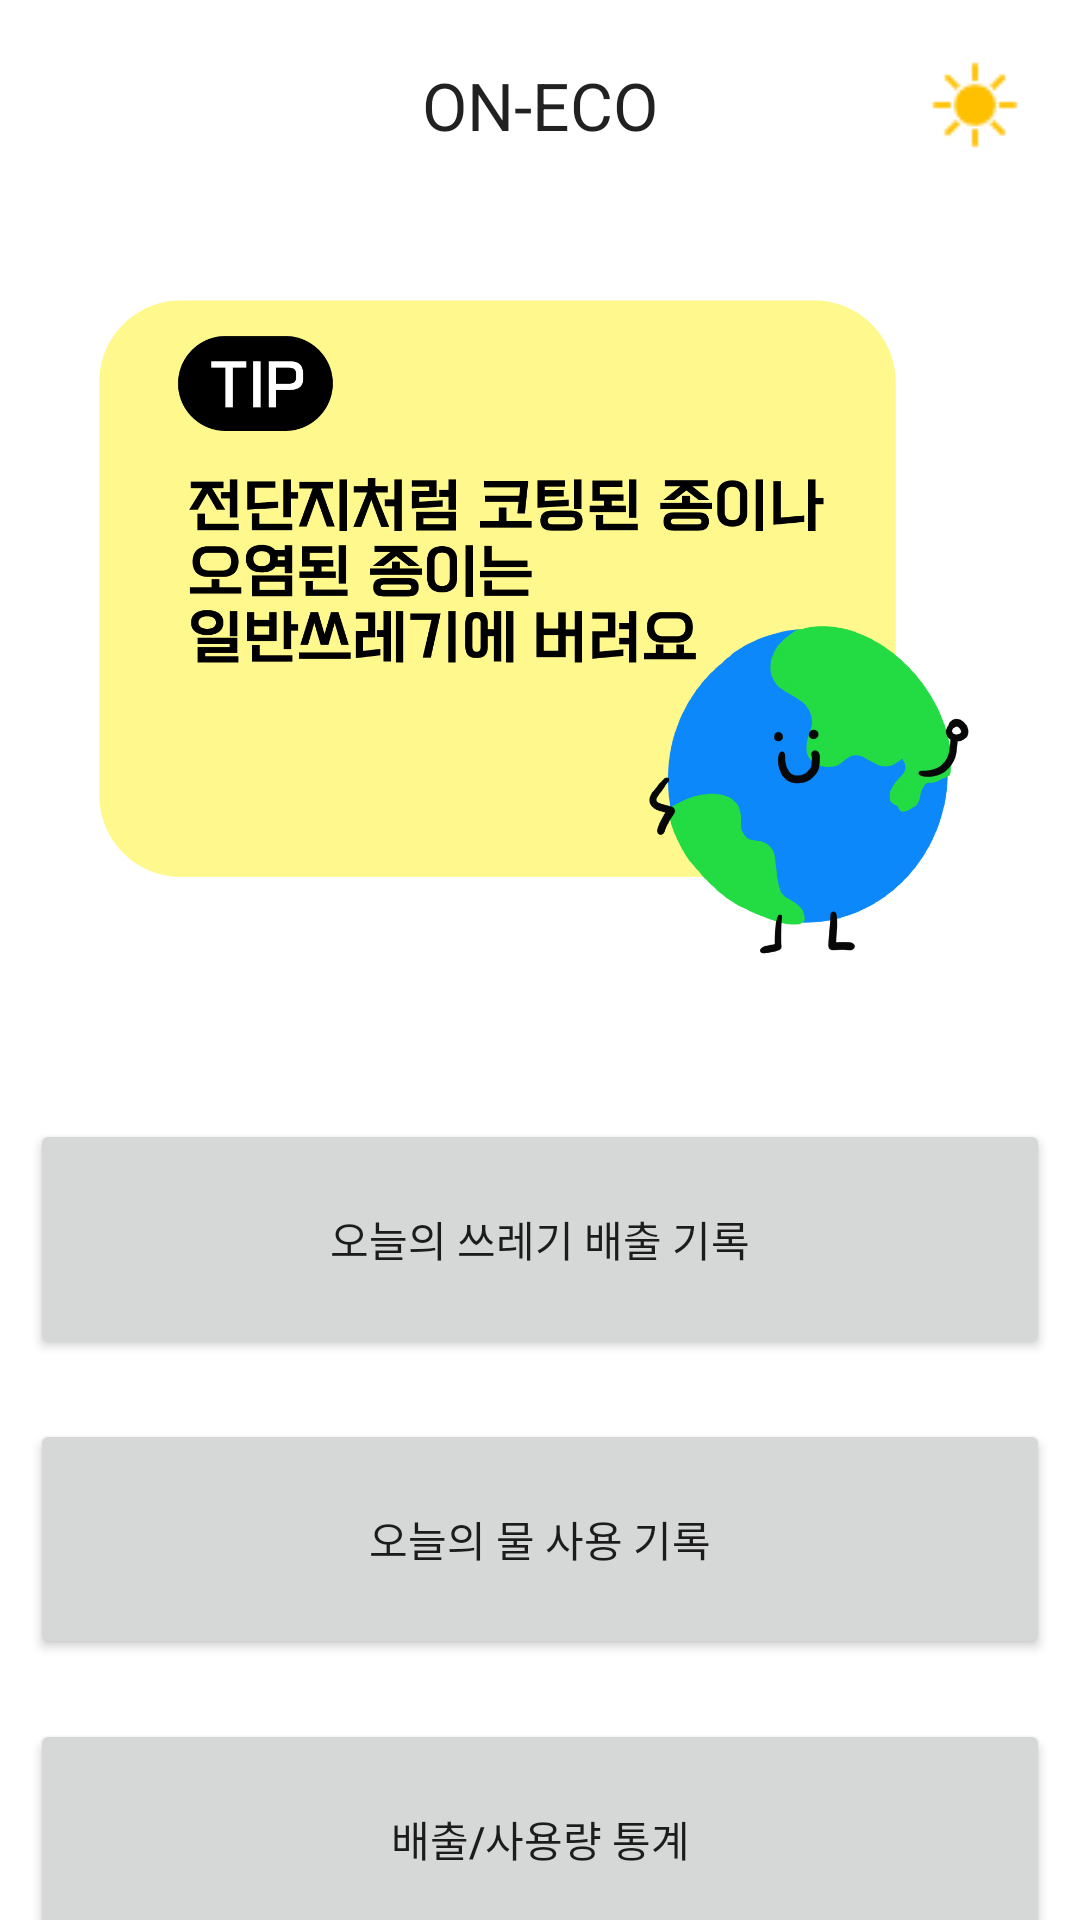

Icon click points for this 1080w x 1920h phone screenshot, format [x,y]:
mypage sun: [975,105]
